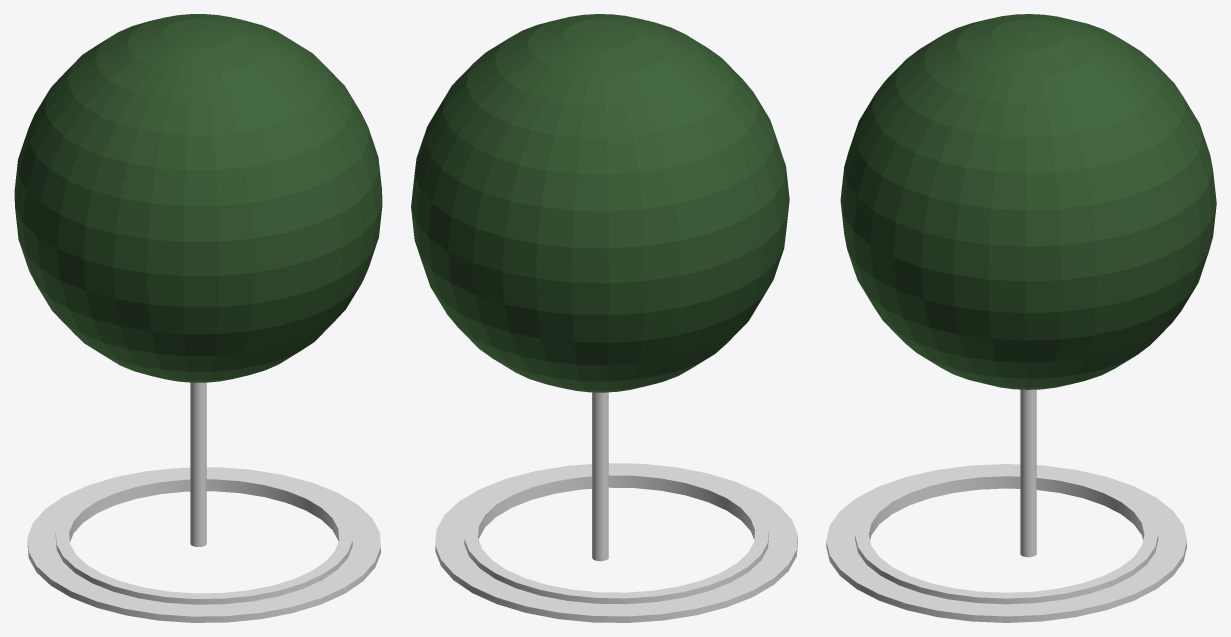
The model's file is Test_arbol.fbx.
The picture shows the model from 3 angles, left to right: view 1: azimuth 30°, elevation 25°; view 2: azimuth 150°, elevation 25°; view 3: azimuth 270°, elevation 25°; orthographic projection. The views are drawn at different scales.
Parts seen in each view (by area): view 1: Sphere.020, Cylinder.036, Cylinder.021; view 2: Sphere.020, Cylinder.036, Cylinder.021; view 3: Sphere.020, Cylinder.036, Cylinder.021.
Boxes of the visible parts, left/top/right/bottom form: Sphere.020: left=14, top=14, right=382, bottom=382; Cylinder.036: left=27, top=467, right=380, bottom=622; Cylinder.021: left=190, top=382, right=206, bottom=546; Sphere.020: left=411, top=14, right=789, bottom=392; Cylinder.036: left=435, top=463, right=797, bottom=622; Cylinder.021: left=592, top=392, right=608, bottom=561; Sphere.020: left=840, top=14, right=1216, bottom=389; Cylinder.036: left=826, top=464, right=1186, bottom=622; Cylinder.021: left=1020, top=389, right=1036, bottom=557.
Size of the model in its own units: 515 by 789 by 535.
